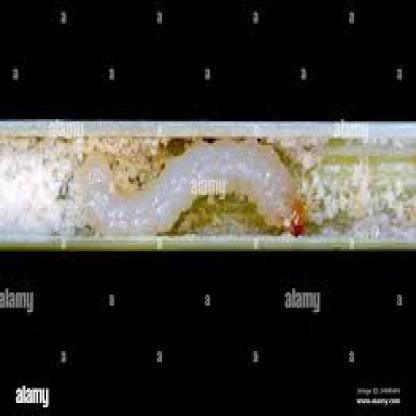sawfly: (62, 121, 316, 247)
